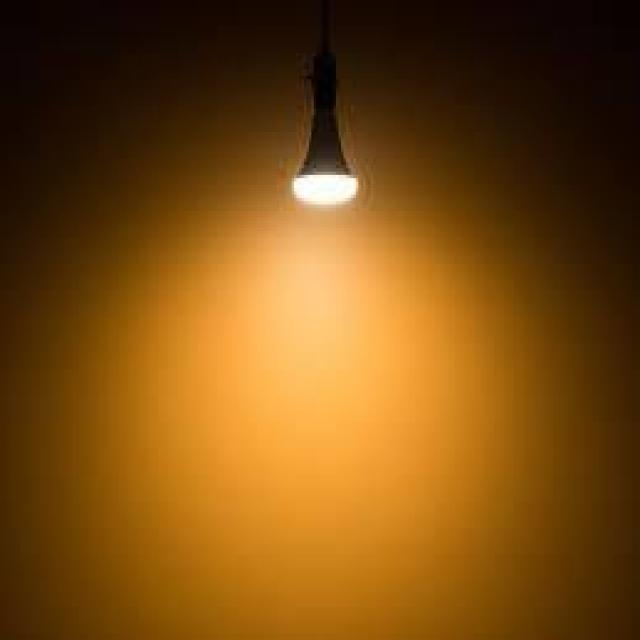other: (178, 168, 465, 554)
